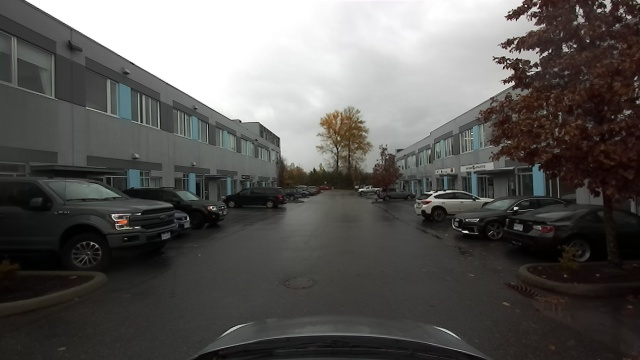car: (1, 177, 179, 269), (501, 203, 596, 264), (450, 193, 567, 239), (413, 190, 491, 226), (182, 187, 225, 223), (229, 185, 285, 209), (376, 190, 411, 200), (360, 185, 383, 194), (297, 186, 311, 198)
